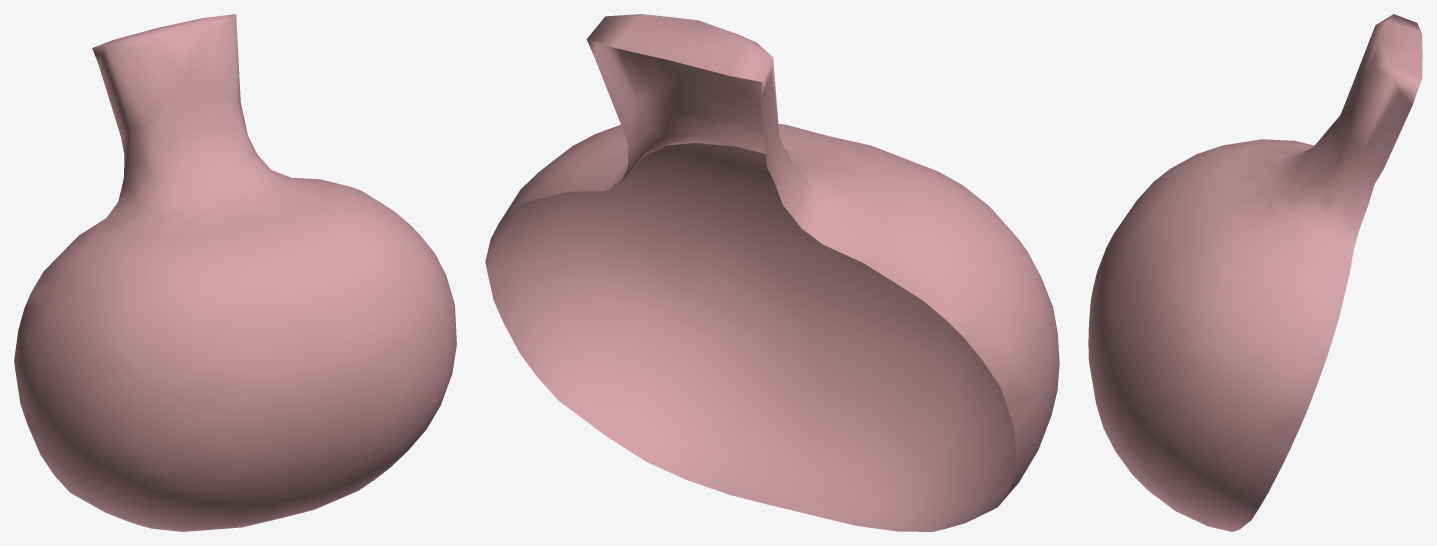
3 renders of one model, left to right at view 1: azimuth 30°, elevation 25°; view 2: azimuth 150°, elevation 25°; view 3: azimuth 270°, elevation 25°, orthographic. The views are drawn at different scales.
Visible parts, largest first — view 1: ZA_50b5781c2c8ba18b; view 2: ZA_50b5781c2c8ba18b; view 3: ZA_50b5781c2c8ba18b.
Part boxes in pixels (bbox=[...]): ZA_50b5781c2c8ba18b: bbox=[14, 14, 456, 531]; ZA_50b5781c2c8ba18b: bbox=[485, 14, 1059, 531]; ZA_50b5781c2c8ba18b: bbox=[1088, 14, 1422, 531].
Size of the model in its own units: 0.0119 by 0.0121 by 0.00811.
